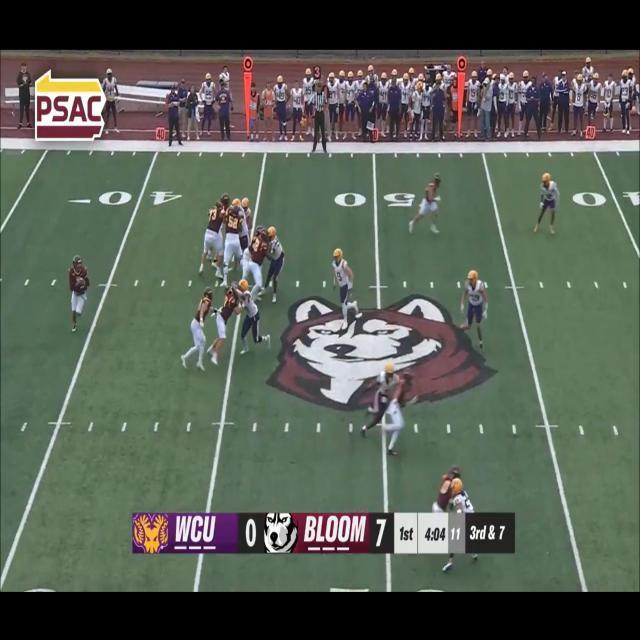football: (74, 276, 89, 294)
